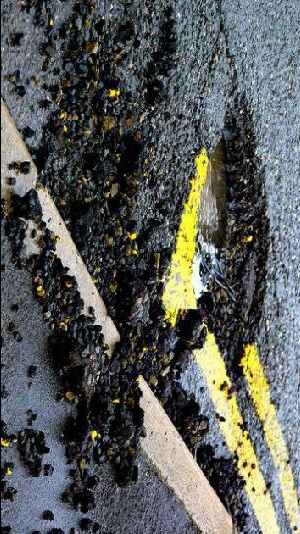pothole: (198, 91, 274, 383)
